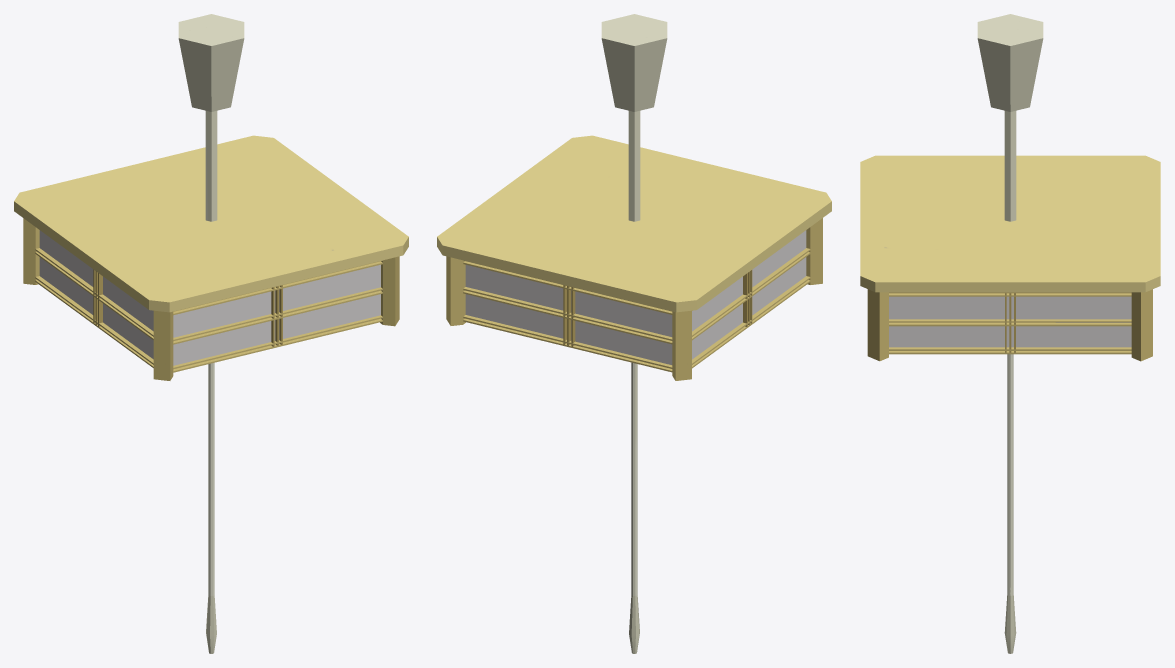
File: Light_L.fbx
3 renders of one model, left to right at view 1: azimuth 30°, elevation 25°; view 2: azimuth 150°, elevation 25°; view 3: azimuth 270°, elevation 25°, orthographic.
Visible parts, largest first — view 1: ueita, ita3, setuzokubu, ita1, himo1, yoko_hasira2 (×2), yoko_hasira6 (×2), tate_hasira2, himo_, tate_hasira1, tate_hasira3, yoko_hasira3 (+2 smaller); view 2: ueita, ita4, setuzokubu, ita1, himo1, yoko_hasira6 (×2), yoko_hasira2 (×2), himo_, tate_hasira3, tate_hasira, tate_hasira2, yoko_hasira5 (+2 smaller); view 3: ueita, ita2, setuzokubu, himo1, tate_hasira1, tate_hasira, himo_, yoko_hasira5, yoko_hasira1, yoko_hasira6, yoko_hasira3, yoko_hasira2 (+1 smaller).
Boxes of the visible parts, x1,y1,x2,y2 form: ueita: [14, 135, 408, 312]; ita3: [173, 264, 380, 365]; setuzokubu: [178, 14, 244, 111]; ita1: [39, 230, 153, 359]; himo1: [206, 362, 216, 653]; yoko_hasira2 (×2): [35, 276, 382, 369]; yoko_hasira6 (×2): [35, 248, 382, 341]; tate_hasira2: [153, 310, 173, 380]; himo_: [205, 111, 217, 221]; tate_hasira1: [380, 256, 399, 326]; tate_hasira3: [23, 218, 39, 284]; yoko_hasira3: [173, 261, 382, 315]; ueita: [437, 135, 831, 312]; ita4: [465, 265, 672, 364]; setuzokubu: [601, 14, 667, 111]; ita1: [692, 230, 806, 359]; himo1: [629, 362, 639, 653]; yoko_hasira6 (×2): [463, 248, 810, 340]; yoko_hasira2 (×2): [463, 276, 810, 368]; himo_: [628, 111, 640, 221]; tate_hasira3: [672, 310, 691, 380]; tate_hasira: [446, 256, 465, 325]; tate_hasira2: [806, 218, 822, 284]; yoko_hasira5: [463, 290, 672, 344]; ueita: [860, 155, 1160, 292]; ita2: [889, 296, 1131, 347]; setuzokubu: [977, 14, 1043, 111]; himo1: [1004, 354, 1016, 653]; tate_hasira1: [867, 289, 888, 361]; tate_hasira: [1131, 289, 1152, 361]; himo_: [1004, 111, 1016, 221]; yoko_hasira5: [889, 322, 1131, 326]; yoko_hasira1: [889, 351, 1131, 354]; yoko_hasira6: [889, 319, 1131, 322]; yoko_hasira3: [889, 293, 1131, 296]; yoko_hasira2: [889, 347, 1131, 350].
Bounding box in the file's own units: 45 × 103 × 45.
